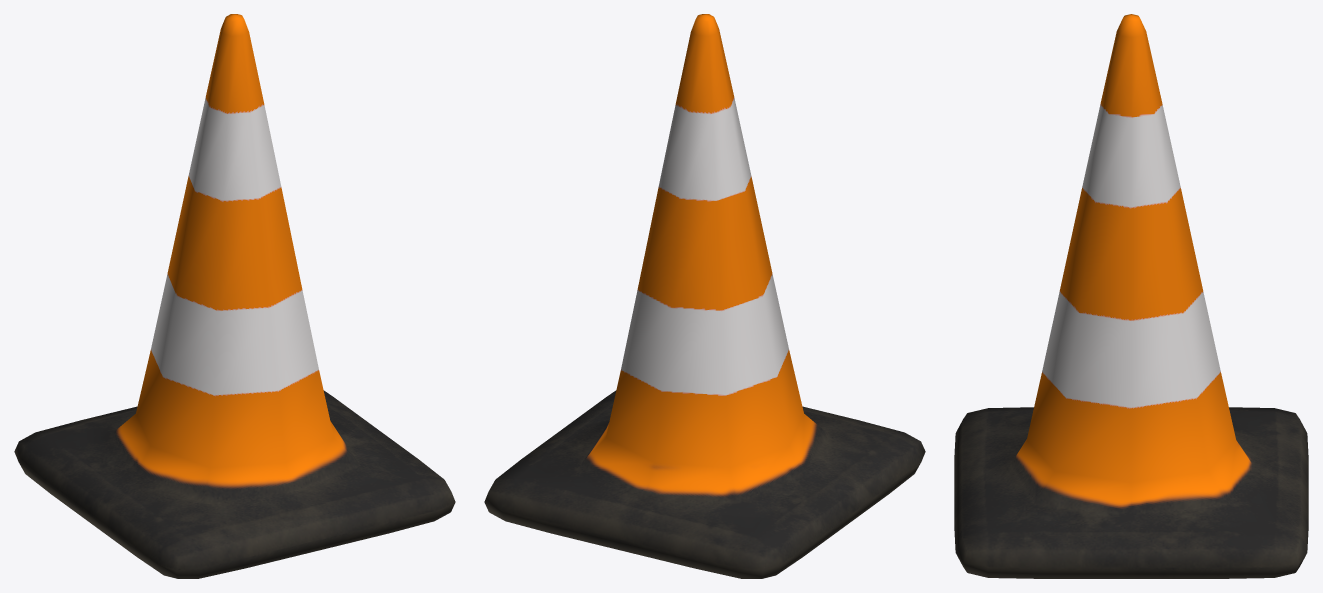
The model's file is Traffic_Cone.fbx.
3 renders of one model, left to right at view 1: azimuth 30°, elevation 25°; view 2: azimuth 150°, elevation 25°; view 3: azimuth 270°, elevation 25°, orthographic. The views are drawn at different scales.
Visible parts, largest first — view 1: cone; view 2: cone; view 3: cone.
Part boxes in pixels (x1,y1,x2,y2): cone: [14, 14, 455, 578]; cone: [484, 14, 925, 578]; cone: [954, 14, 1308, 578].
Bounding box in the file's own units: 109 × 170 × 109.
